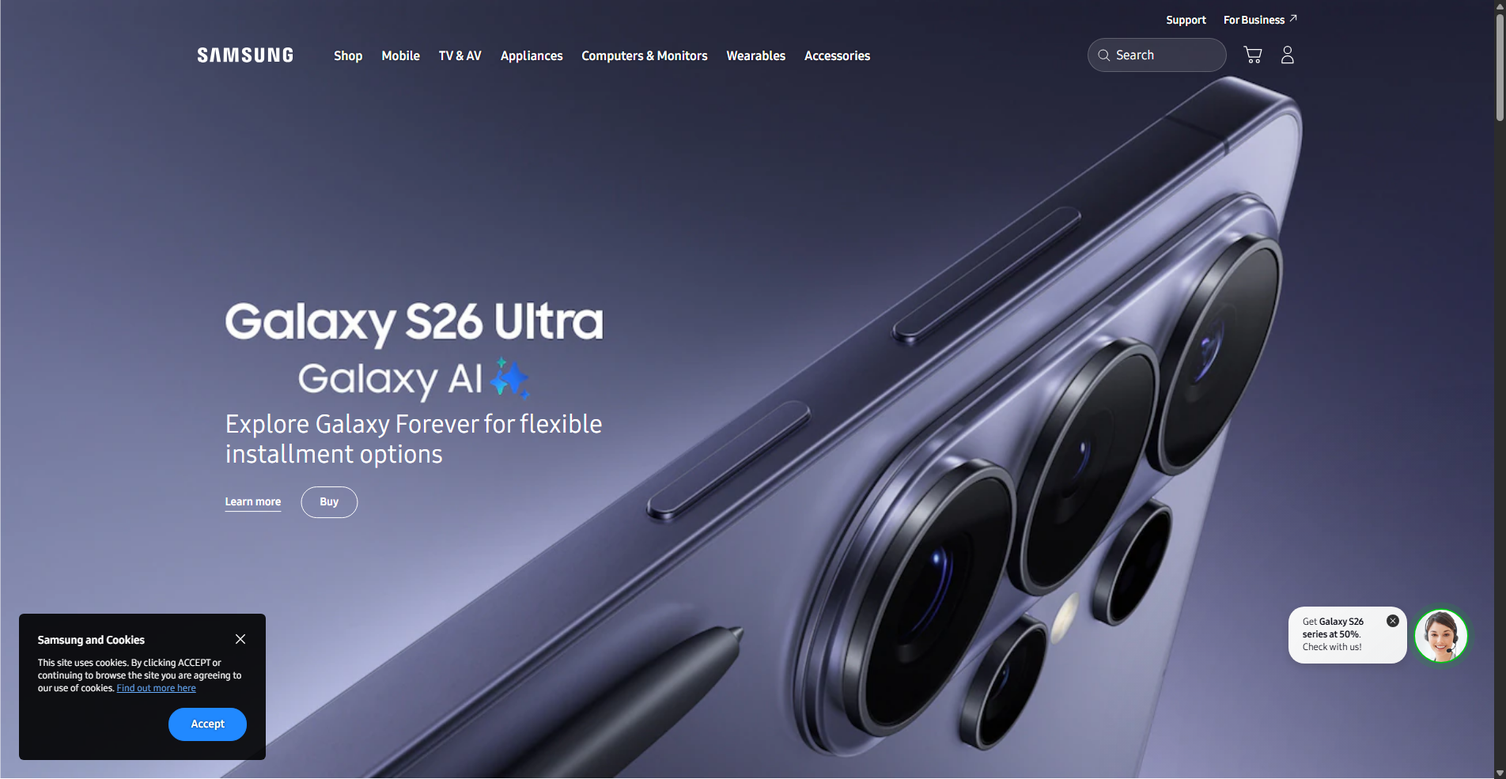button: (0, 0, 1494, 778), (1107, 93, 1278, 125), (1087, 38, 1226, 72), (450, 96, 561, 111), (1431, 722, 1469, 760), (1159, 8, 1214, 32), (1236, 38, 1269, 71), (1271, 38, 1304, 71), (203, 24, 249, 38), (228, 626, 253, 651), (362, 38, 372, 74), (420, 38, 430, 74), (481, 38, 491, 74), (707, 38, 717, 74), (785, 38, 795, 74), (870, 38, 880, 74), (563, 38, 572, 74)
link: (431, 105, 526, 251), (538, 105, 633, 251), (646, 105, 741, 251), (753, 105, 848, 251), (861, 105, 956, 251), (969, 105, 1063, 251), (431, 263, 526, 395), (538, 263, 633, 395), (646, 263, 741, 395), (753, 263, 848, 395), (203, 105, 298, 236), (310, 105, 405, 236), (418, 105, 513, 236), (526, 105, 621, 236), (633, 105, 728, 236), (741, 105, 836, 236), (848, 105, 943, 236), (203, 249, 298, 380), (310, 249, 405, 380), (418, 249, 513, 380), (526, 249, 621, 380), (633, 249, 728, 380), (741, 249, 836, 380), (848, 249, 943, 380), (981, 11, 1076, 127), (1089, 11, 1184, 127), (1107, 125, 1278, 171), (1039, 154, 1291, 182), (1039, 182, 1291, 210), (1039, 237, 1291, 265), (1039, 265, 1291, 293), (1039, 320, 1291, 348), (1039, 348, 1291, 376), (1039, 127, 1291, 154), (1039, 210, 1291, 237), (1039, 293, 1291, 320), (1039, 376, 1291, 403), (1107, 179, 1278, 211), (1107, 211, 1278, 243), (1107, 243, 1278, 275), (1107, 275, 1278, 307), (572, 38, 717, 74), (203, 117, 405, 142), (450, 117, 652, 142), (203, 45, 405, 69), (203, 69, 405, 93), (203, 93, 405, 117), (450, 10, 652, 34), (450, 34, 652, 58), (450, 142, 652, 166), (450, 166, 652, 190), (450, 190, 652, 214), (190, 38, 299, 72), (795, 38, 880, 74), (491, 38, 572, 74), (717, 38, 795, 74), (169, 708, 247, 741), (430, 38, 491, 74), (1216, 8, 1305, 32), (372, 38, 430, 74), (450, 0, 652, 10), (301, 487, 358, 518), (225, 487, 281, 518), (325, 38, 372, 74), (117, 682, 196, 694), (0, 0, 1, 1)
